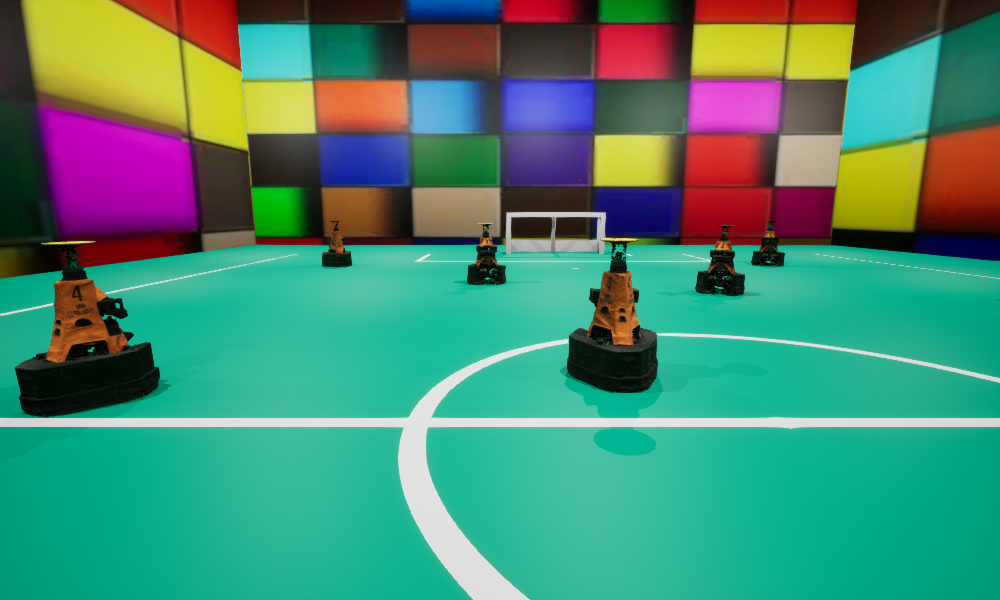o: (15, 241, 159, 416), (567, 238, 657, 392), (695, 225, 744, 294), (467, 223, 505, 284), (751, 220, 784, 265), (322, 221, 351, 266)
